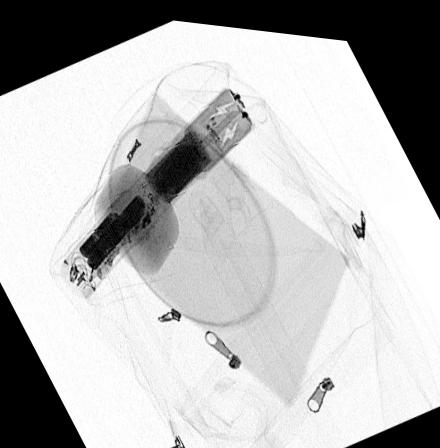Baton: (57, 78, 255, 296)
